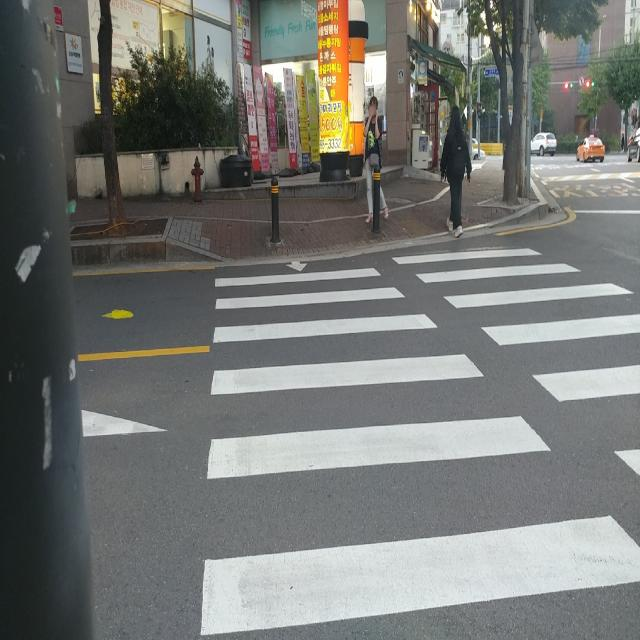횡단보도: (197, 246, 640, 640)
